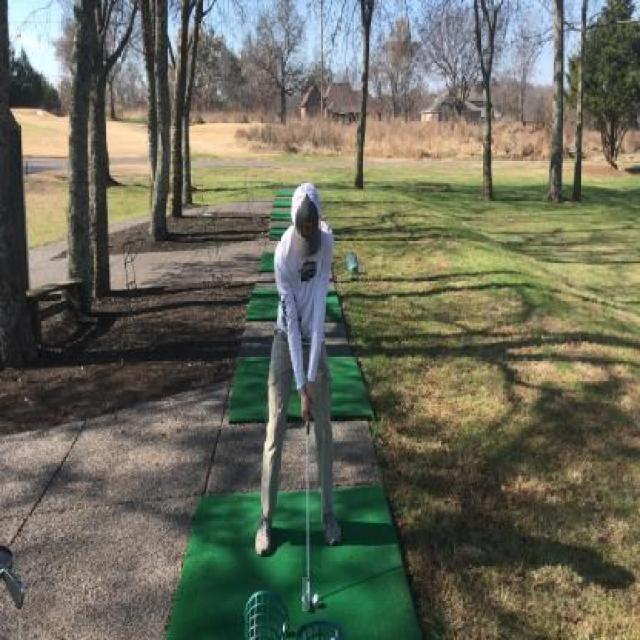club head: (302, 577, 310, 611)
